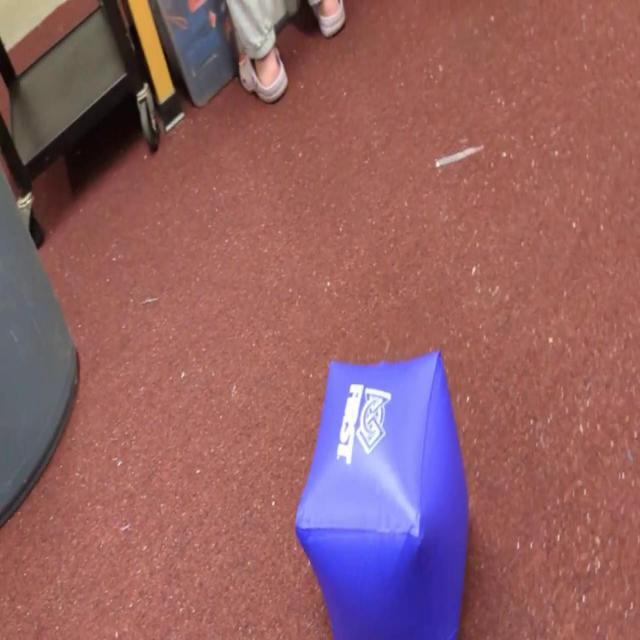frc_cube: (293, 349, 469, 640)
